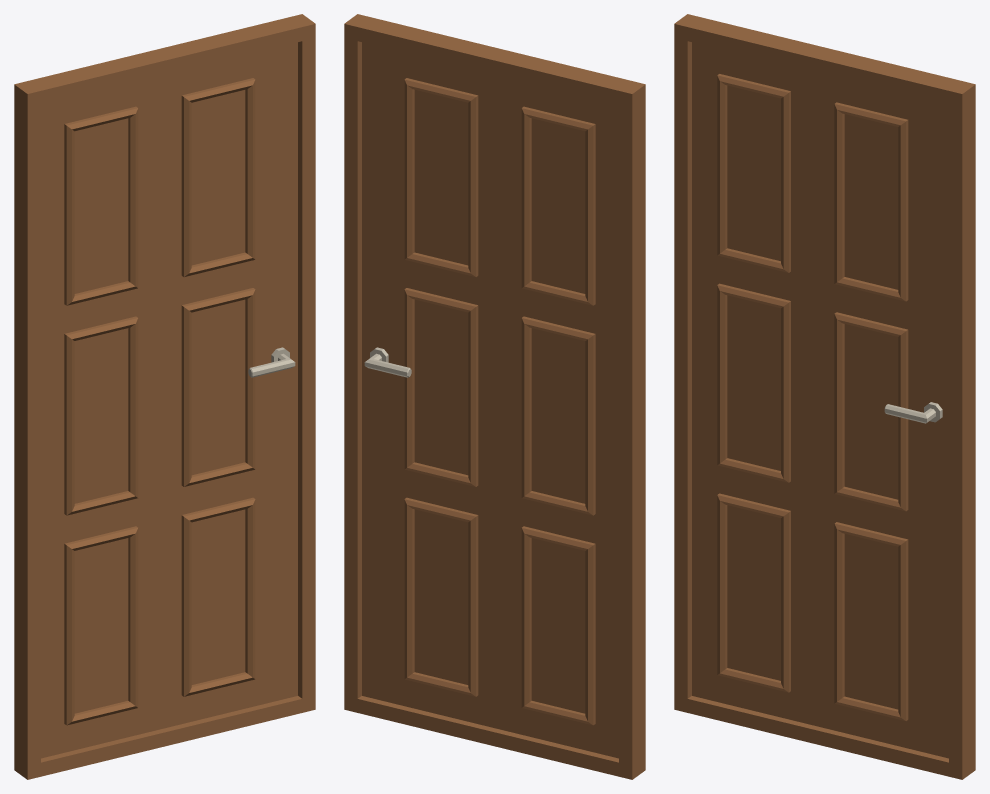
File: Mesh_Door_B08.fbx
3 views of the same model, side by side, from view 1: azimuth 30°, elevation 25°; view 2: azimuth 150°, elevation 25°; view 3: azimuth 330°, elevation 25° (orthographic).
Visible parts, largest first — view 1: Mesh_Door_B08; view 2: Mesh_Door_B08; view 3: Mesh_Door_B08.
Part boxes in pixels (left/top/right/bottom): Mesh_Door_B08: left=14, top=14, right=315, bottom=779; Mesh_Door_B08: left=344, top=14, right=645, bottom=779; Mesh_Door_B08: left=674, top=14, right=975, bottom=779.
Size of the model in its own units: 0.9 by 2.05 by 0.1524.
